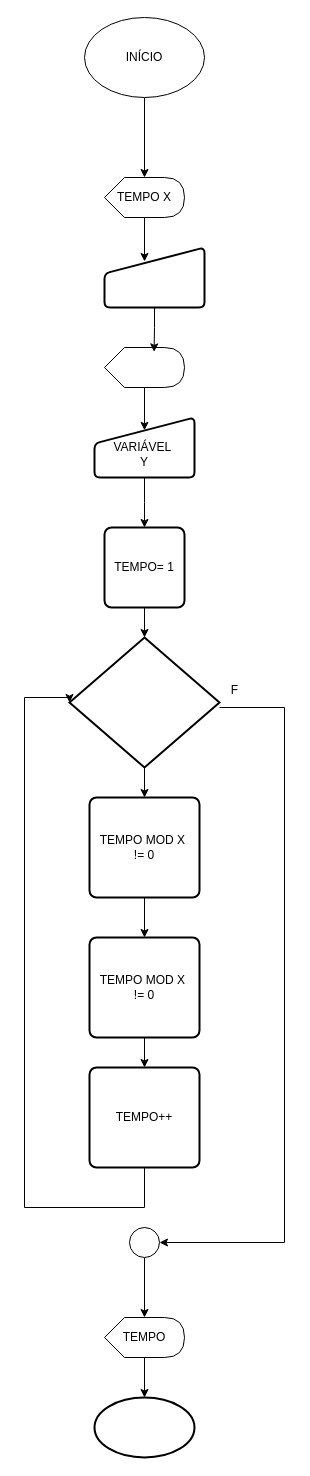
The diagram is 310 pixels wide and 1476 high, and some of its shapes have lost their labels. The shapes that lost their labels are listed below. From the top down, each one's centre as x and y in pixels, then its label:
At [154,277]: "VARIÁVEL X".
At [144,367]: "TEMPO Y".
At [144,702]: "SE TEMPO MOD X != 0|| TEMPO MOD Y != 0".
At [144,1427]: "FINAL".
